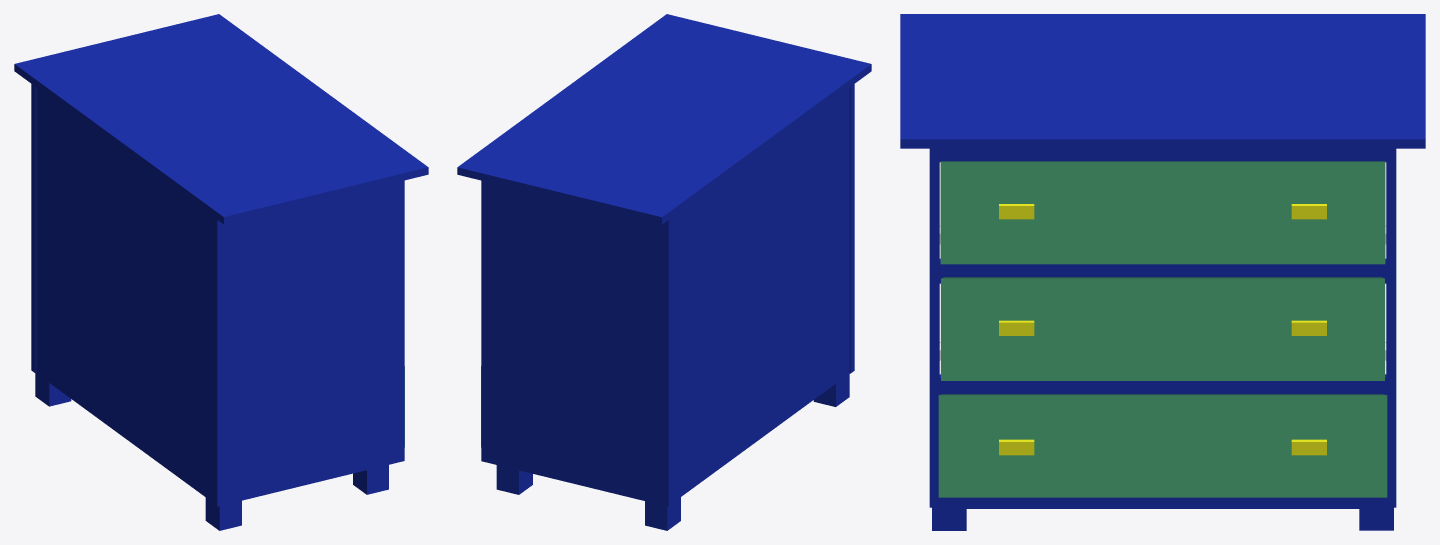
Rendered from cajonera.obj.
3 renders of one model, left to right at view 1: azimuth 30°, elevation 25°; view 2: azimuth 150°, elevation 25°; view 3: azimuth 270°, elevation 25°, orthographic. The views are drawn at different scales.
Parts seen in each view (by area): view 1: polySurface59; view 2: polySurface59; view 3: polySurface59.
Part boxes in pixels (x1,y1,x2,y2): polySurface59: (14, 14, 428, 530); polySurface59: (457, 14, 871, 530); polySurface59: (900, 14, 1425, 530).
Bounding box in the file's own units: 1.01 × 1.54 × 1.8.
5 materials, 5 textured.
